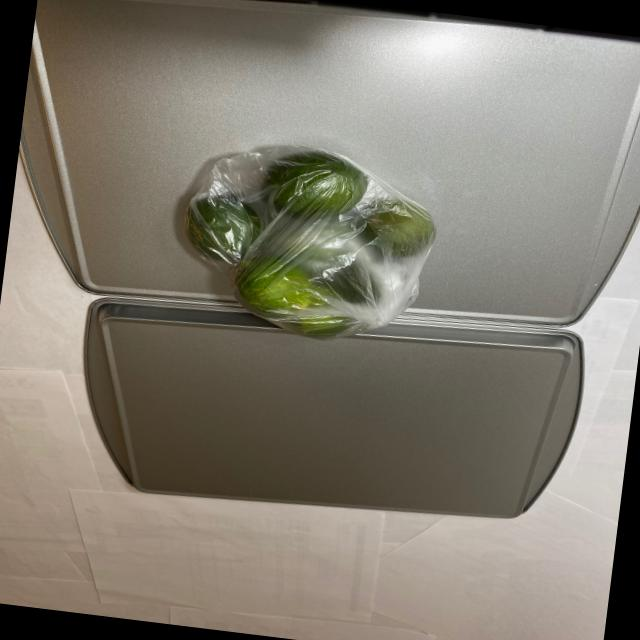lemon: (168, 134, 441, 352)
